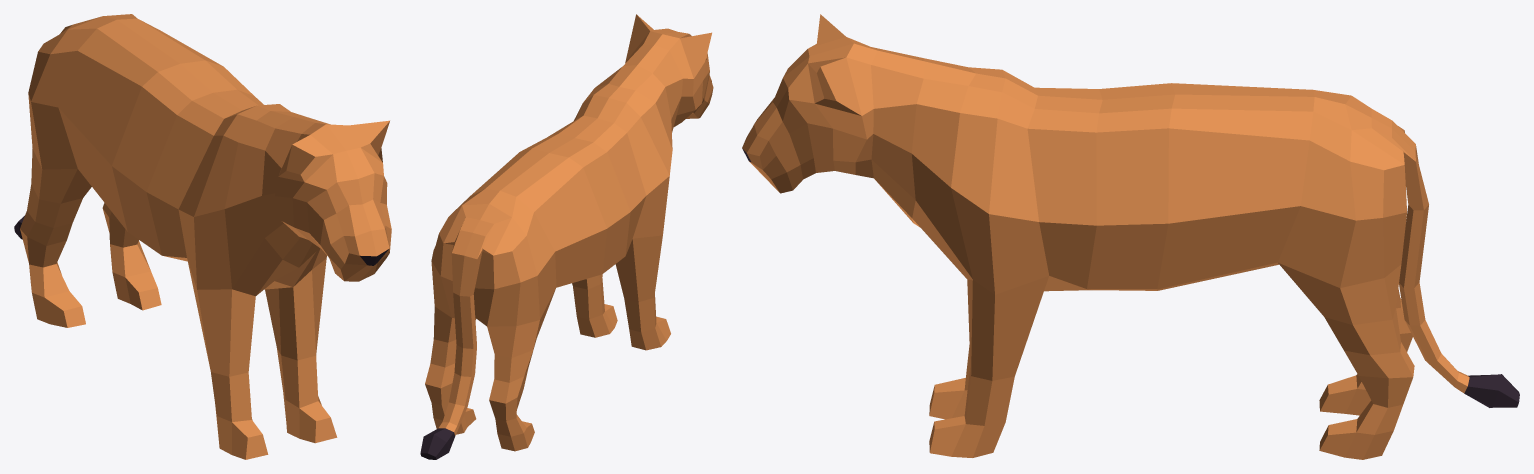
The model's file is Löwin2.fbx.
3 renders of one model, left to right at view 1: azimuth 30°, elevation 25°; view 2: azimuth 150°, elevation 25°; view 3: azimuth 270°, elevation 25°, orthographic. The views are drawn at different scales.
Parts seen in each view (by area): view 1: Löwin.002; view 2: Löwin.002; view 3: Löwin.002.
Part boxes in pixels (x1,y1,x2,y2): Löwin.002: (14, 14, 391, 459); Löwin.002: (420, 14, 713, 459); Löwin.002: (742, 14, 1519, 459).
Bounding box in the file's own units: 0.6506 × 1.54 × 2.79.
